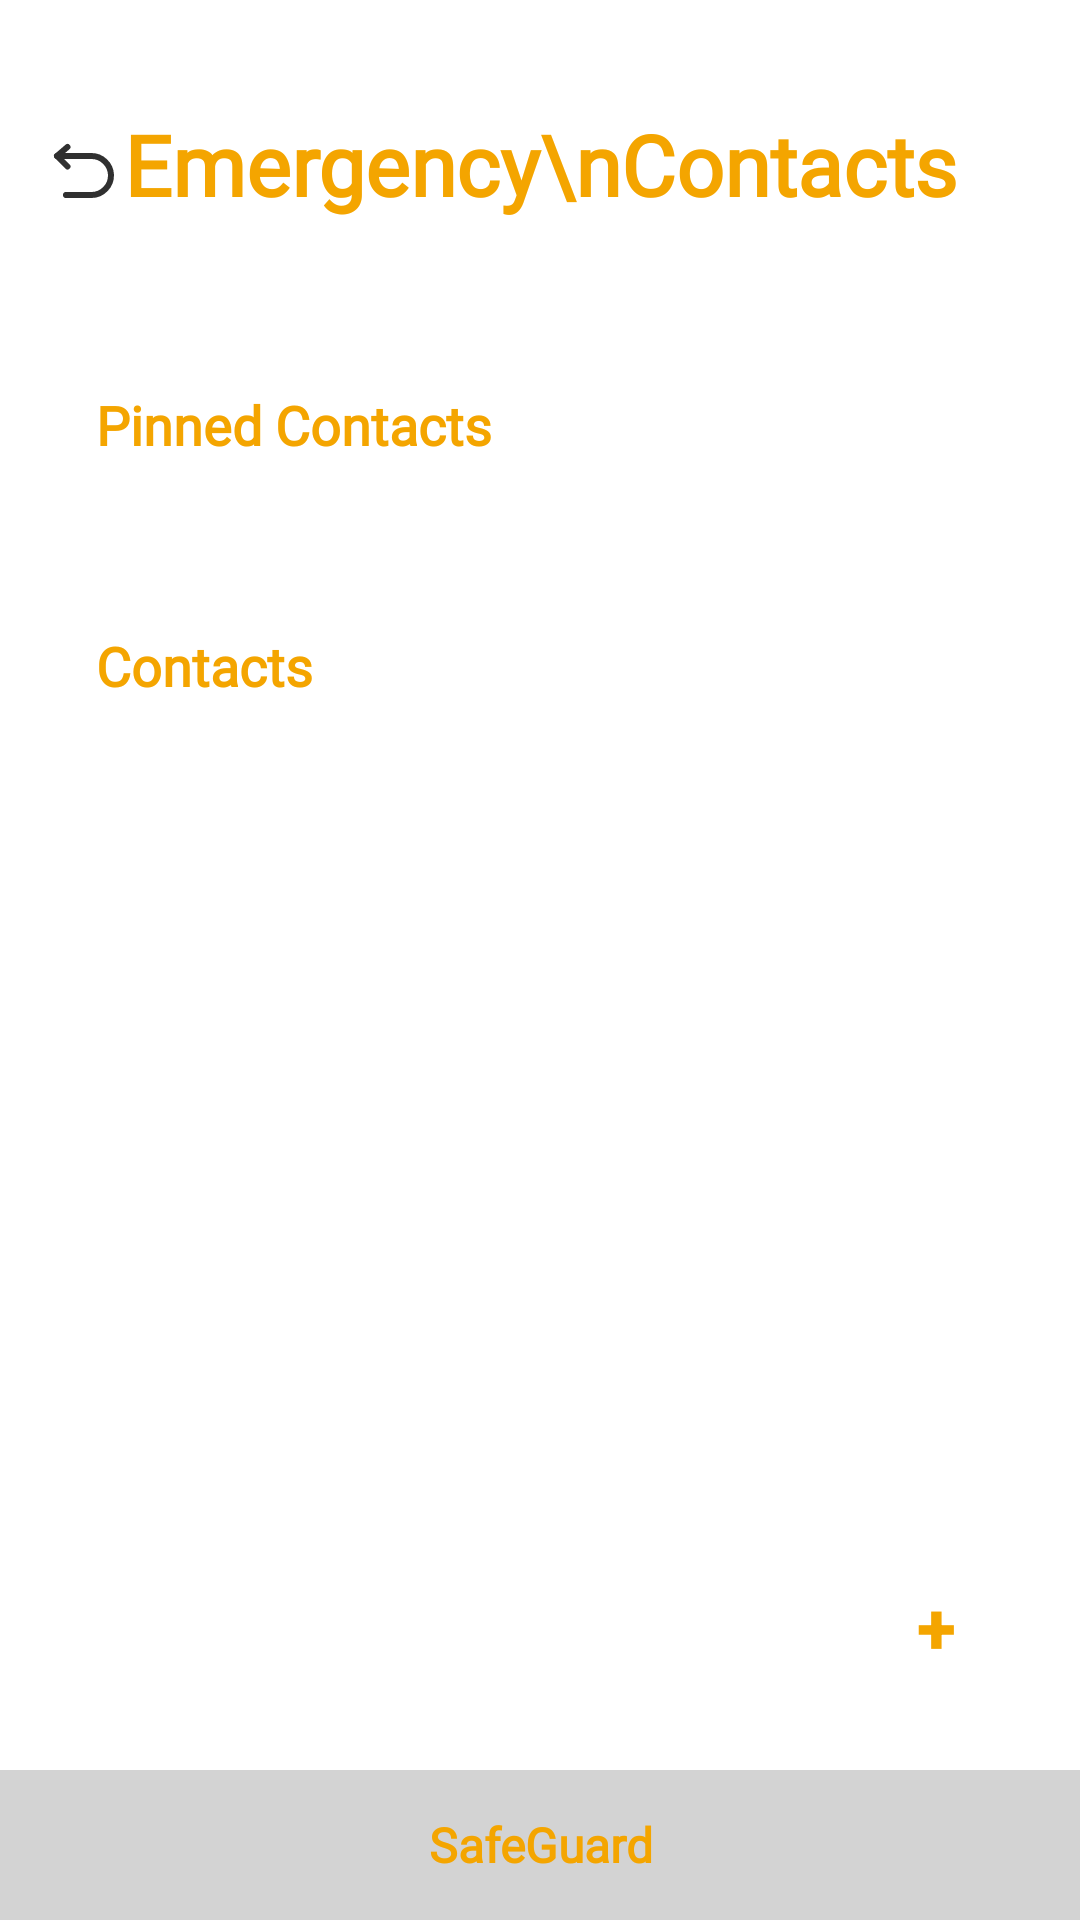

Icon bounding boxes for this 1080x1920 phone screenshot, format (x1, y1, x2, y2):
Back: (53, 143, 114, 198)
